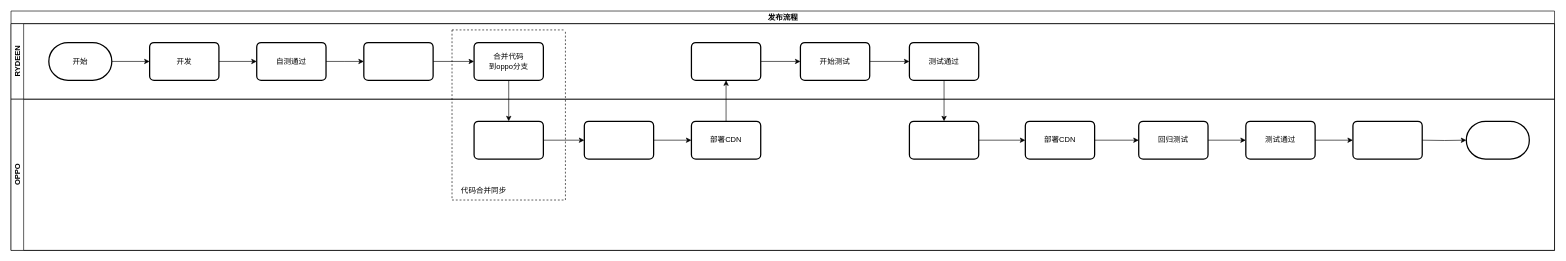
Image size: 1566x261. Some labels were removed from this diagram. Here are the shapes that lost their labels. From the top down, the centre of each, then its label:
the point at 398,61: 提测
the point at 725,61: APP的H5自升级 拉取最新的H5测试包
the point at 508,139: 拉取合并代码 到rydeen分支
the point at 618,139: 打H5测试包
the point at 943,139: 打H5回归包
the point at 1387,139: H5自发布
the point at 1497,139: 结束
